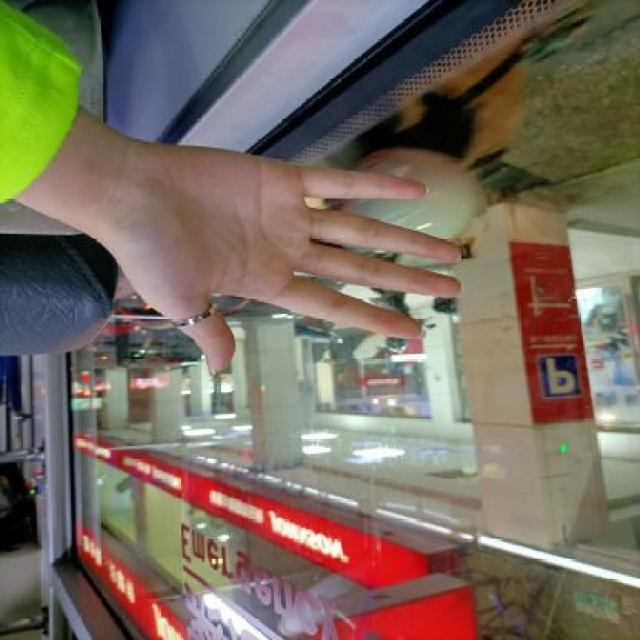bare_hand: (80, 112, 483, 394)
